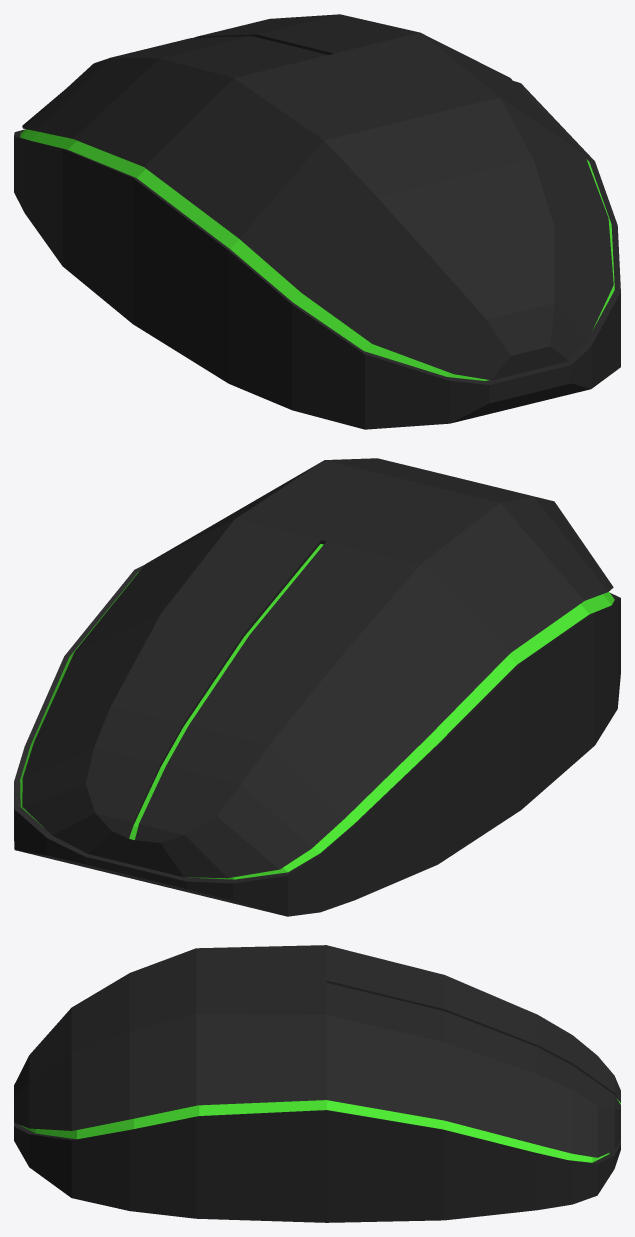
File: Mouse.fbx
The picture shows the model from 3 angles, top to bottom: view 1: azimuth 30°, elevation 25°; view 2: azimuth 150°, elevation 25°; view 3: azimuth 270°, elevation 25°; orthographic projection. The views are drawn at different scales.
Visible parts, largest first — view 1: Mouse; view 2: Mouse; view 3: Mouse.
Boxes of the visible parts, x1,y1,x2,y2 form: Mouse: (14, 14, 620, 429); Mouse: (14, 458, 620, 916); Mouse: (14, 945, 620, 1222).
Bounding box in the file's own units: 17.94 × 9.79 × 31.64.
